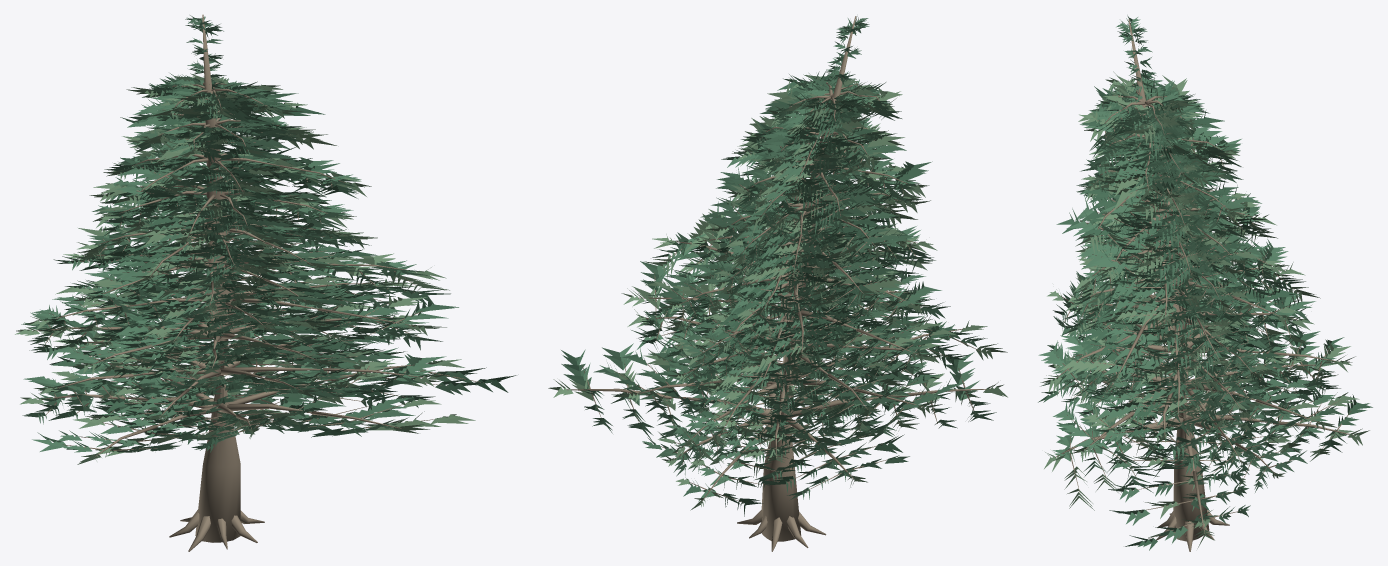
Rendered from cedar_5.glb.
3 views of the same model, side by side, from view 1: azimuth 30°, elevation 25°; view 2: azimuth 150°, elevation 25°; view 3: azimuth 270°, elevation 25° (orthographic). The views are drawn at different scales.
Visible parts, largest first — view 1: tree_conifer_ConiferLeaf, tree_conifer_ConiferLeafLight, tree_conifer_ConiferLeafDark, tree_conifer_ConiferBark; view 2: tree_conifer_ConiferLeaf, tree_conifer_ConiferLeafLight, tree_conifer_ConiferLeafDark, tree_conifer_ConiferBark; view 3: tree_conifer_ConiferLeaf, tree_conifer_ConiferLeafLight, tree_conifer_ConiferLeafDark, tree_conifer_ConiferBark.
Part boxes in pixels (x1,y1,x2,y2): tree_conifer_ConiferLeaf: (21, 15, 486, 457); tree_conifer_ConiferLeafLight: (15, 73, 475, 464); tree_conifer_ConiferLeafDark: (36, 75, 516, 452); tree_conifer_ConiferBark: (32, 14, 483, 551); tree_conifer_ConiferLeaf: (561, 16, 996, 501); tree_conifer_ConiferLeafLight: (548, 71, 1007, 510); tree_conifer_ConiferLeafDark: (561, 70, 969, 516); tree_conifer_ConiferBark: (567, 16, 990, 551); tree_conifer_ConiferLeaf: (1038, 15, 1346, 543); tree_conifer_ConiferLeafLight: (1040, 71, 1369, 548); tree_conifer_ConiferLeafDark: (1038, 81, 1372, 550); tree_conifer_ConiferBark: (1055, 19, 1353, 551).
Bounding box in the file's own units: 12.16 × 13.37 × 8.28.
